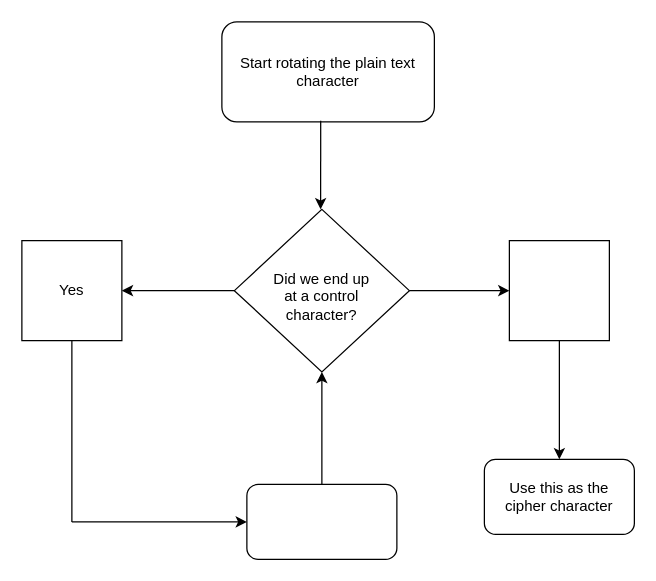
This 656x581 diagram has some shape labels left out. Here are the shapes that lost their labels. From the top down, the box of each, then its label:
(508, 239, 609, 341): No
(246, 483, 397, 559): Skip this character, continue to next
